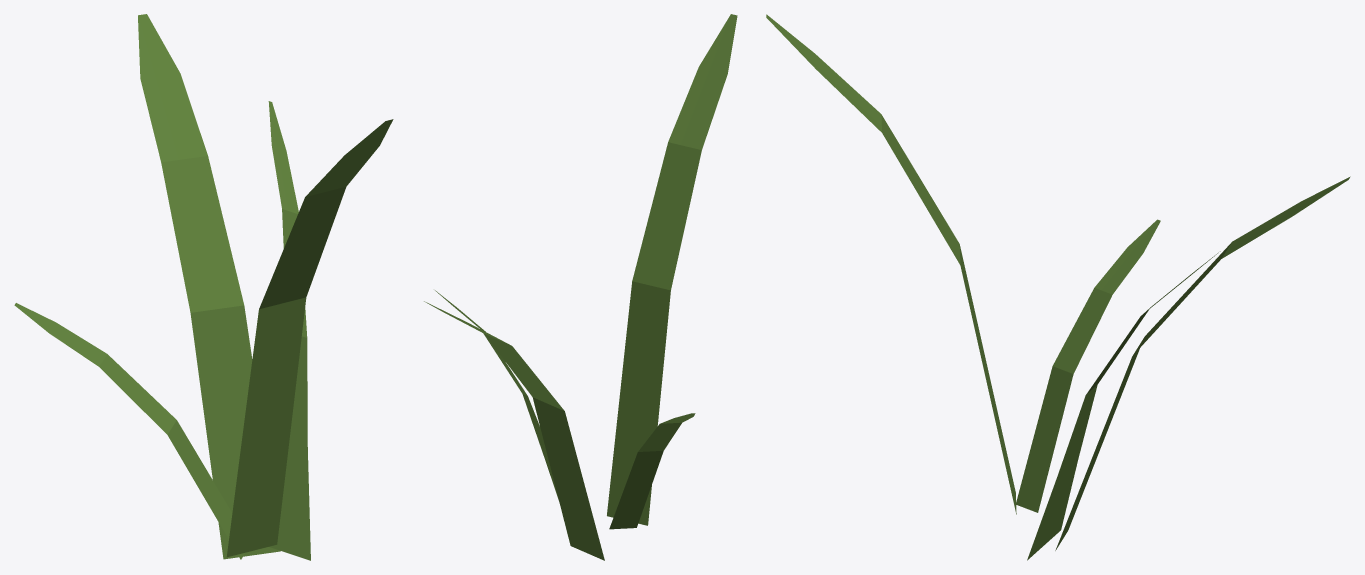
The model's file is kome0.fbx.
3 views of the same model, side by side, from view 1: azimuth 30°, elevation 25°; view 2: azimuth 150°, elevation 25°; view 3: azimuth 270°, elevation 25° (orthographic). The views are drawn at different scales.
Parts seen in each view (by area): view 1: 平面; view 2: 平面; view 3: 平面.
Boxes of the visible parts, left/top/right/bottom form: 平面: left=14, top=14, right=393, bottom=560; 平面: left=424, top=14, right=737, bottom=560; 平面: left=766, top=14, right=1350, bottom=560.
Bounding box in the file's own units: 43.19 × 79.17 × 81.13.
